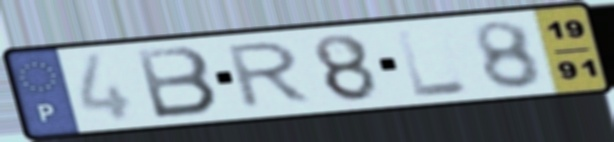4: (76, 49, 142, 125)
8: (471, 19, 544, 91), (311, 32, 380, 104)
B: (131, 44, 222, 122)
L: (392, 25, 473, 100)
R: (224, 38, 317, 112)
